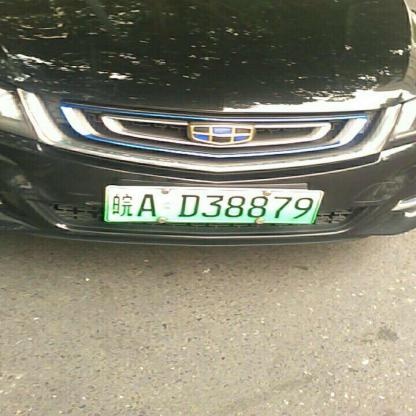lp: (105, 185, 323, 223)
